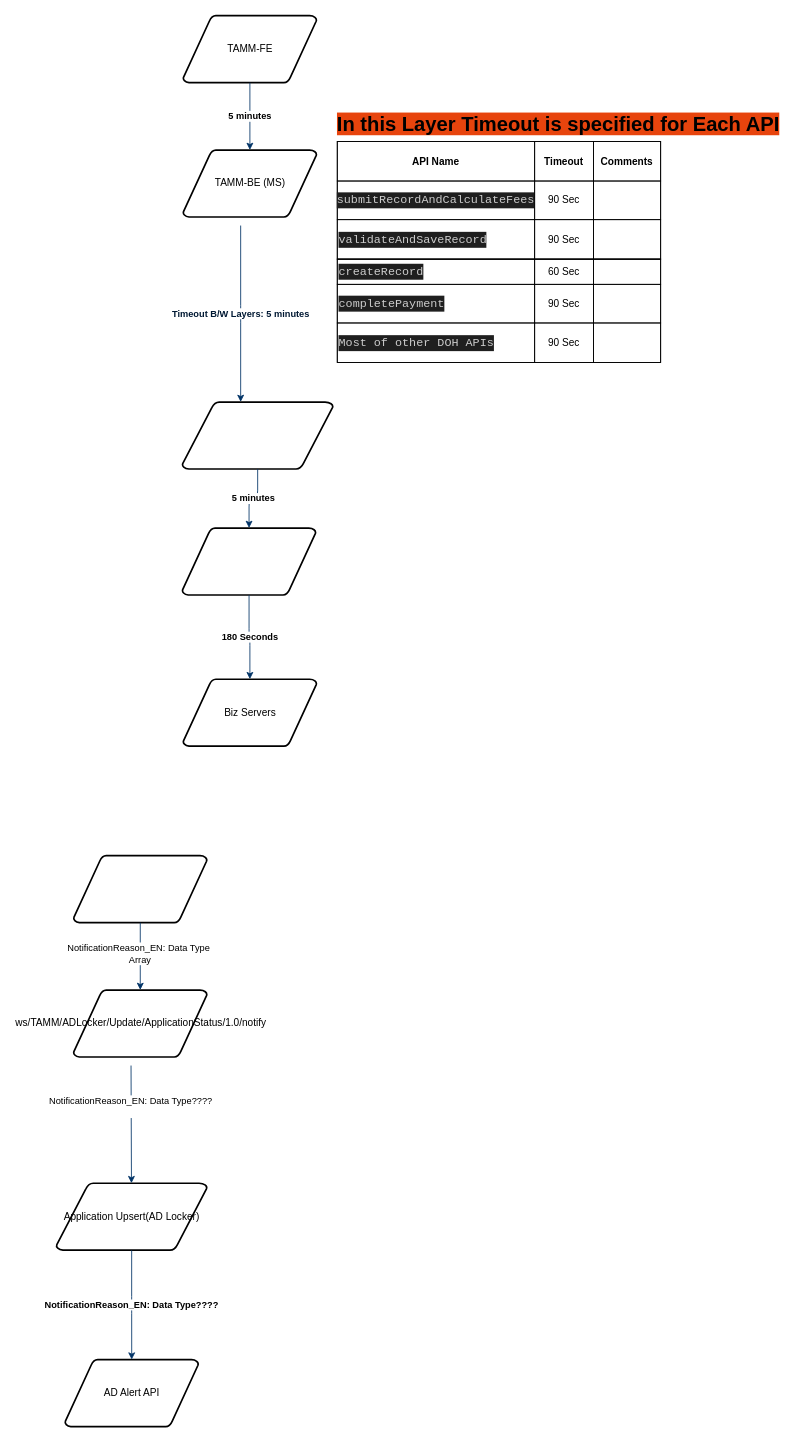
Some shapes in this 809 by 1441 pixel diagram are drawn without their labels. Here are the shapes that lost their labels. From the top down, the centre of each, then its label:
At (257,435): "TAMM-MW (ADConnect)".
At (248,561): "Accela Wrapper".
At (139,888): "Entity Backend(Accela)".
